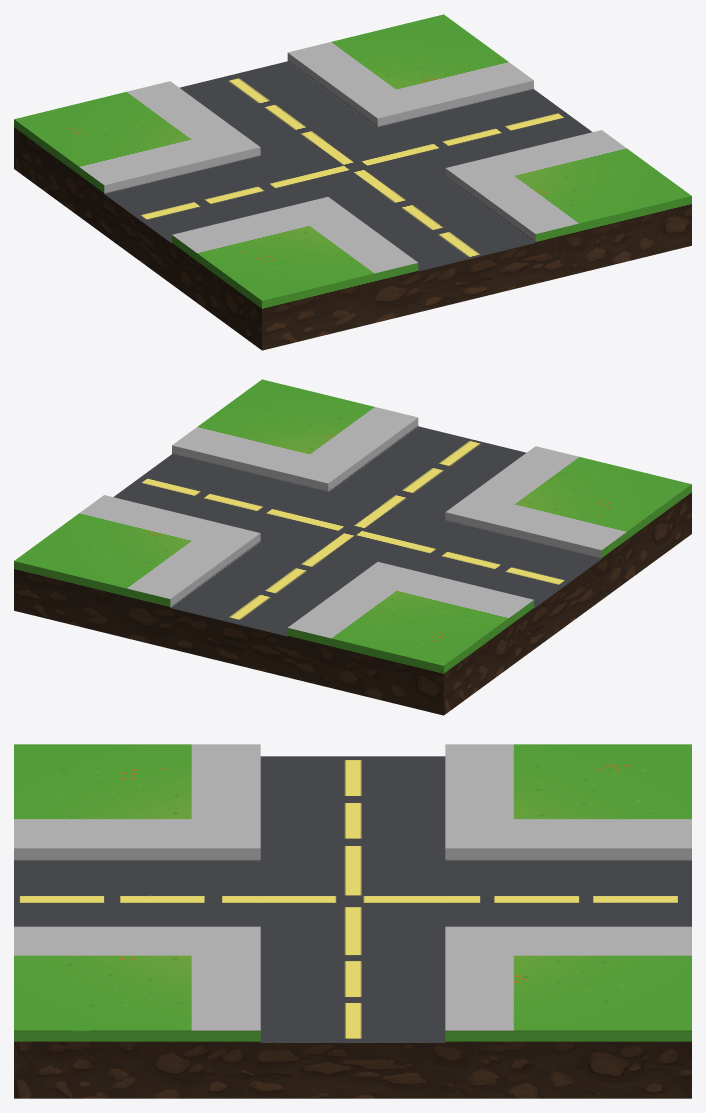
The model's file is city_road_03.fbx.
3 renders of one model, top to bottom at view 1: azimuth 30°, elevation 25°; view 2: azimuth 150°, elevation 25°; view 3: azimuth 270°, elevation 25°, orthographic. The views are drawn at different scales.
Visible parts, largest first — view 1: road_03; view 2: road_03; view 3: road_03.
Boxes of the visible parts, <box> form: road_03: <box>14,14,691,350</box>; road_03: <box>14,379,691,715</box>; road_03: <box>14,744,691,1098</box>.
Size of the model in its own units: 22 by 2.43 by 22.
